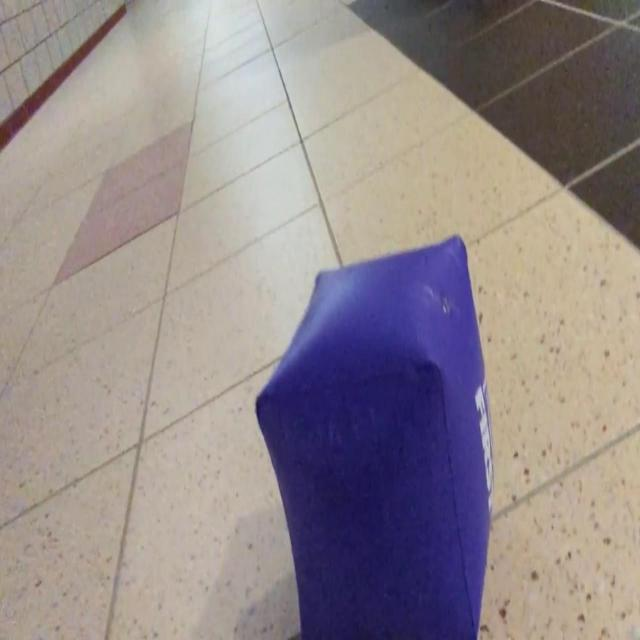frc_cube: (256, 231, 494, 640)
